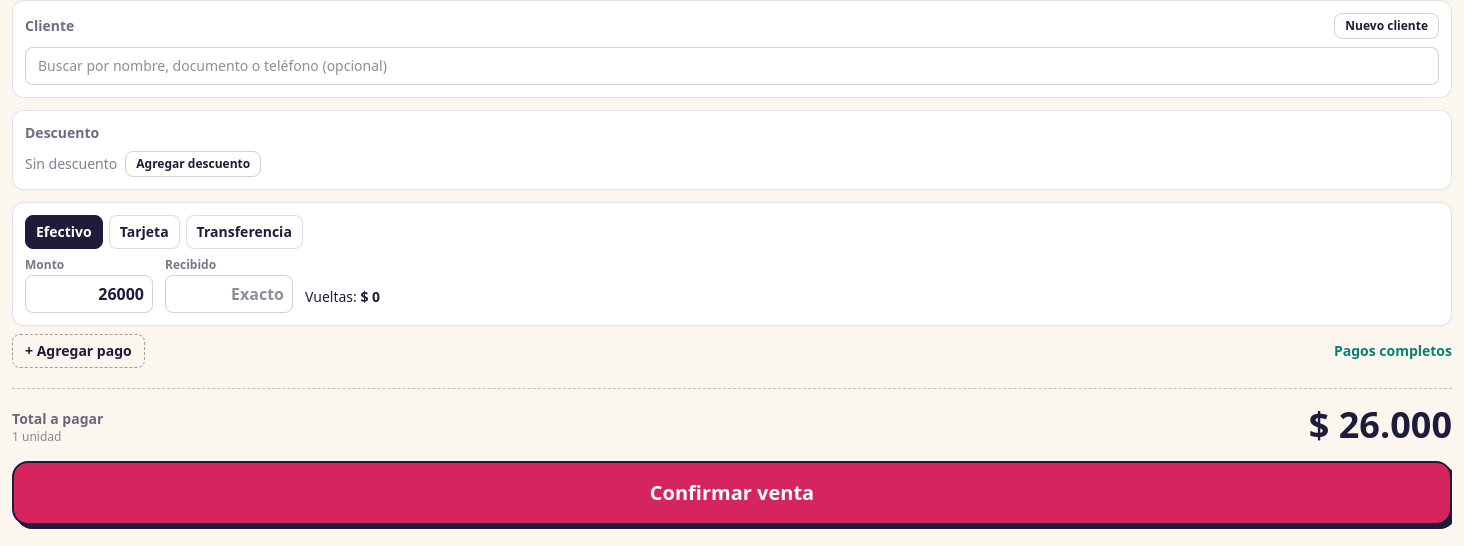
ConfirmacionPago — pagos › si sobra no deja confirmar
The image size is (1464, 546).
Replace the text in the field named "Monto del pago" with "30000" at (89, 294), box x1=25 y1=275 x2=153 y2=313
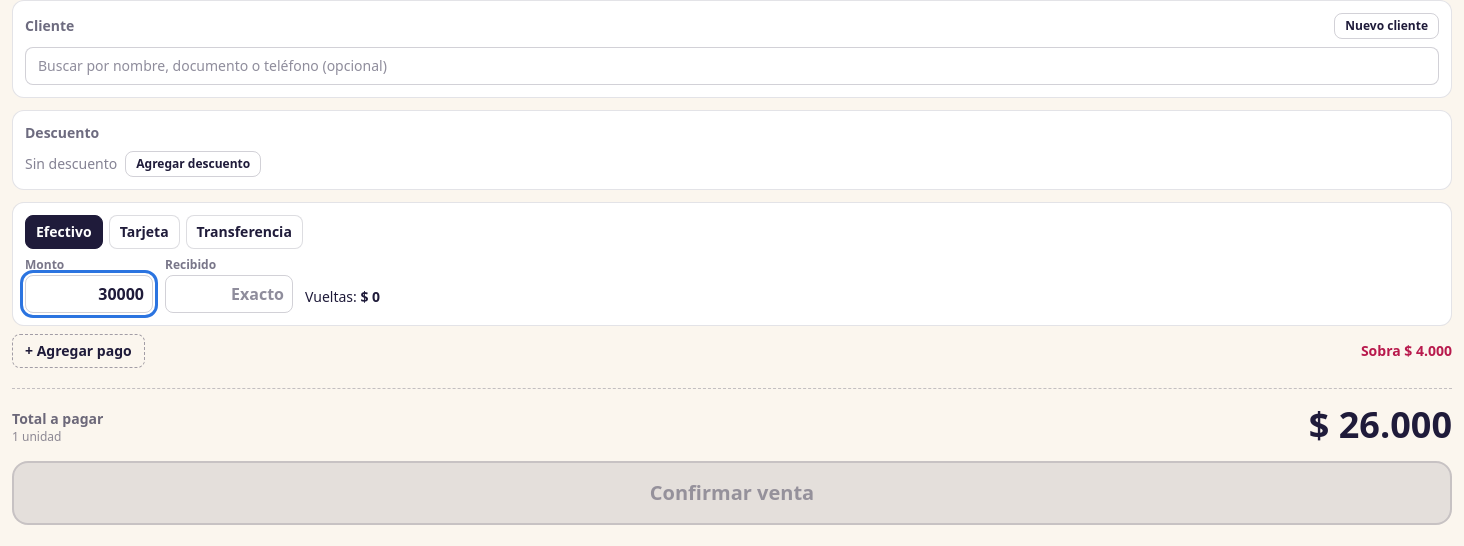
expect the button "Confirmar venta" is disabled: met, box x1=12 y1=461 x2=1452 y2=525
expect the message reads "Sobra $ 4.000": met, box x1=1361 y1=341 x2=1452 y2=361
